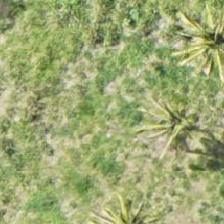coconut_tree: (132, 82, 222, 172), (172, 0, 223, 84)
